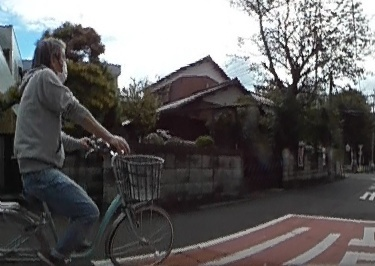person: (21, 36, 98, 250)
